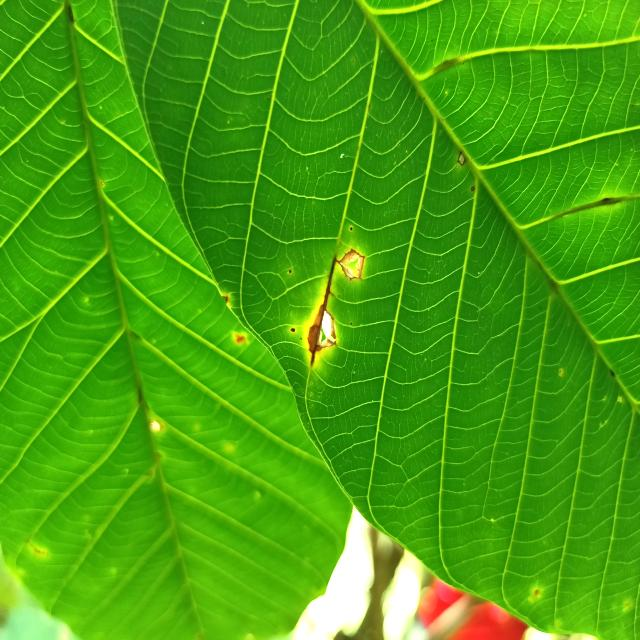Colletotrichum: (458, 152, 466, 166), (470, 186, 475, 192), (291, 328, 295, 332), (289, 270, 291, 274), (350, 227, 352, 231)
Corynespora: (307, 255, 338, 367)
Leaf-Blight: (339, 249, 366, 281)
